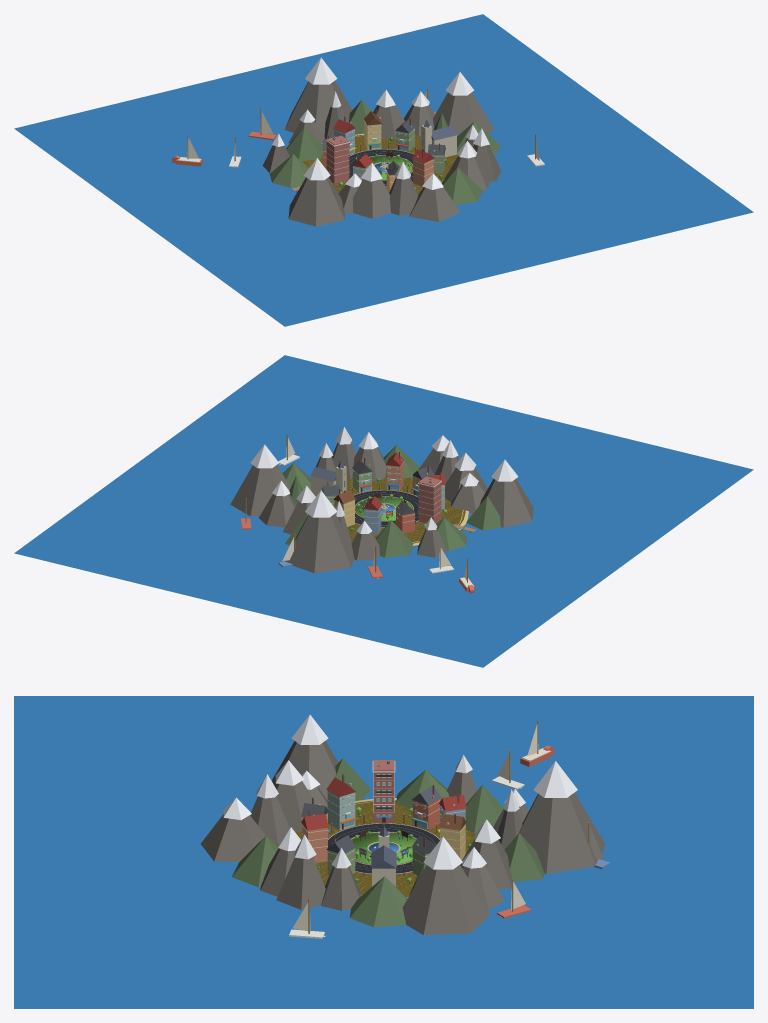
The model's file is world.glb.
3 views of the same model, one above another, from view 1: azimuth 30°, elevation 25°; view 2: azimuth 150°, elevation 25°; view 3: azimuth 270°, elevation 25° (orthographic). The views are drawn at different scales.
Parts seen in each view (by area): view 1: Env_Sea, MtnBig_-50_-25, MtnBig_0_58, MtnBig_52_20, Mtn_13, Mtn_15, Env_Island, Mtn_16, APT5_body, Mtn_14, Mtn_9, Mtn_7 (+5 smaller); view 2: Env_Sea, MtnBig_0_58, MtnBig_52_20, MtnBig_-50_-25, Env_Island, Mtn_7, APT5_body, Mtn_2, Mtn_11, Mtn_12, W_RoadRing, Mtn_17 (+5 smaller); view 3: Env_Sea, MtnBig_0_58, MtnBig_52_20, Env_Island, Mtn_15, Mtn_0, Mtn_18, MtnBig_-50_-25, Mtn_19, Mtn_4, Mtn_16, W_RoadRing (+22 smaller).
Boxes of the visible parts, left/top/right/bottom form: Env_Sea: left=14, top=14, right=753, bottom=326; MtnBig_-50_-25: left=288, top=177, right=345, bottom=226; MtnBig_0_58: left=284, top=81, right=352, bottom=137; MtnBig_52_20: left=433, top=92, right=493, bottom=136; Mtn_13: left=353, top=179, right=390, bottom=218; Mtn_15: left=409, top=187, right=460, bottom=221; Env_Island: left=302, top=134, right=458, bottom=194; Mtn_16: left=442, top=167, right=482, bottom=204; APT5_body: left=326, top=141, right=349, bottom=183; Mtn_14: left=389, top=178, right=418, bottom=215; Mtn_9: left=269, top=154, right=308, bottom=187; Mtn_7: left=286, top=126, right=322, bottom=161; Env_Sea: left=14, top=355, right=753, bottom=667; MtnBig_0_58: left=285, top=514, right=354, bottom=573; MtnBig_52_20: left=230, top=465, right=290, bottom=516; MtnBig_-50_-25: left=480, top=478, right=533, bottom=527; Env_Island: left=346, top=477, right=465, bottom=543; Mtn_7: left=376, top=520, right=414, bottom=557; APT5_body: left=418, top=482, right=441, bottom=523; Mtn_2: left=259, top=494, right=296, bottom=527; Mtn_11: left=466, top=496, right=500, bottom=530; Mtn_12: left=451, top=484, right=484, bottom=513; W_RoadRing: left=354, top=490, right=418, bottom=527; Mtn_17: left=352, top=447, right=386, bottom=481; Env_Sea: left=14, top=696, right=753, bottom=1008; MtnBig_0_58: left=519, top=792, right=605, bottom=873; MtnBig_52_20: left=402, top=865, right=489, bottom=935; Env_Island: left=275, top=800, right=475, bottom=897; Mtn_15: left=200, top=814, right=265, bottom=861; Mtn_0: left=349, top=876, right=407, bottom=927; Mtn_18: left=276, top=857, right=325, bottom=909; MtnBig_-50_-25: left=272, top=741, right=338, bottom=799; Mtn_19: left=321, top=866, right=360, bottom=910; Mtn_4: left=504, top=833, right=544, bottom=881; Mtn_16: left=232, top=836, right=278, bottom=887; W_RoadRing: left=328, top=823, right=439, bottom=873.
Bounding box in the file's own units: 250 × 41 × 250.
92 materials, 1 textured.
